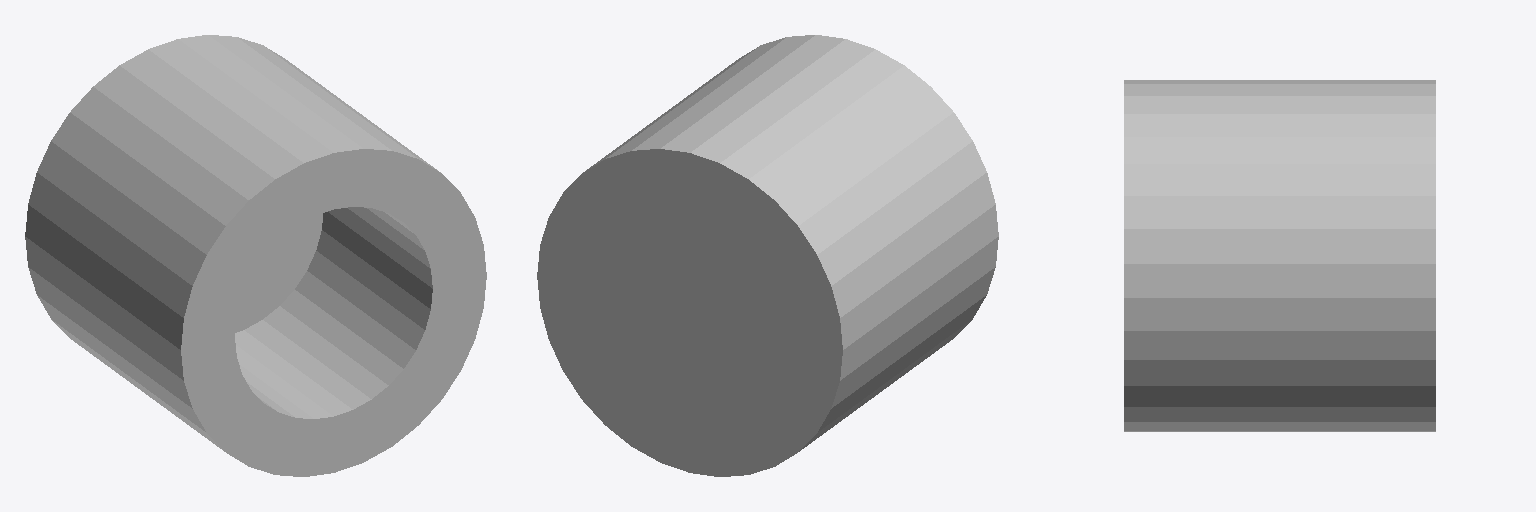
The model's file is cylinder_short.obj.
3 renders of one model, left to right at view 1: azimuth 30°, elevation 25°; view 2: azimuth 150°, elevation 25°; view 3: azimuth 270°, elevation 25°, orthographic.
Visible parts, largest first — view 1: slot_cylinder_short; view 2: slot_cylinder_short; view 3: slot_cylinder_short.
Boxes of the visible parts, box(x1,y1,x2,y2) form: slot_cylinder_short: box(25, 35, 486, 476); slot_cylinder_short: box(537, 35, 998, 476); slot_cylinder_short: box(1124, 80, 1435, 431).
Bounding box in the file's own units: 0.034 × 0.034 × 0.03.